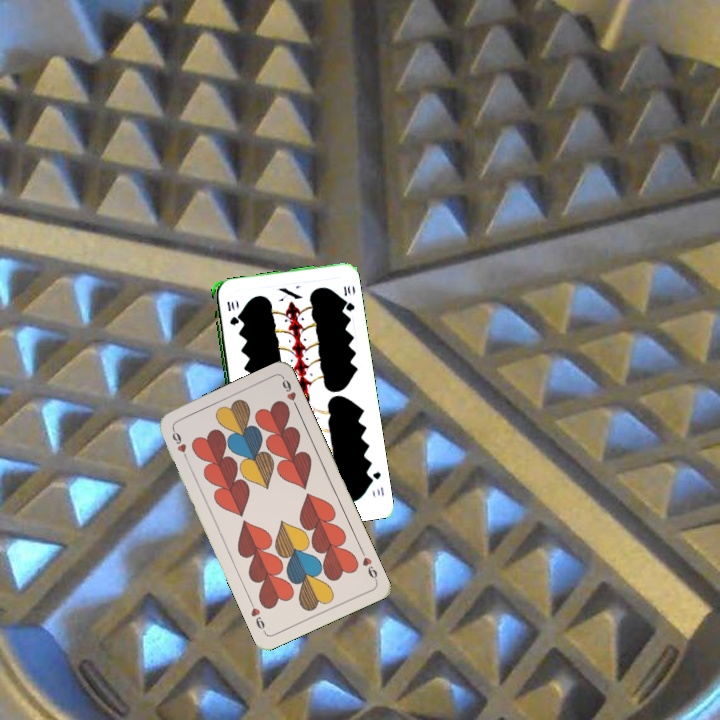G10: (365, 467, 386, 499), (223, 297, 239, 328)
H9: (357, 546, 380, 584), (168, 425, 191, 463)
